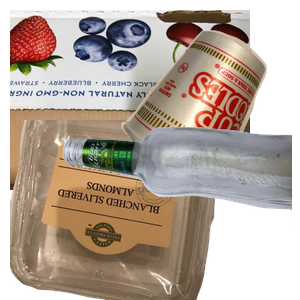cardboard: (10, 10, 250, 190)
glass: (60, 124, 300, 300)
plastic: (10, 120, 227, 300)
trash: (119, 28, 300, 207)
